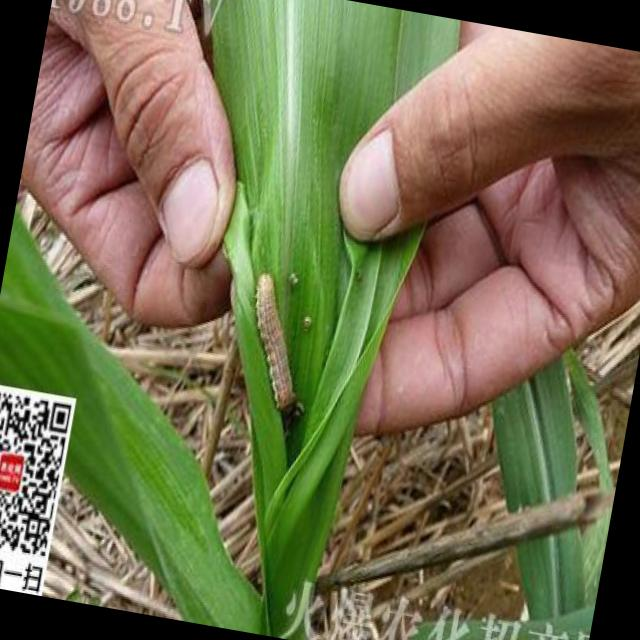pest: (227, 270, 319, 410)
